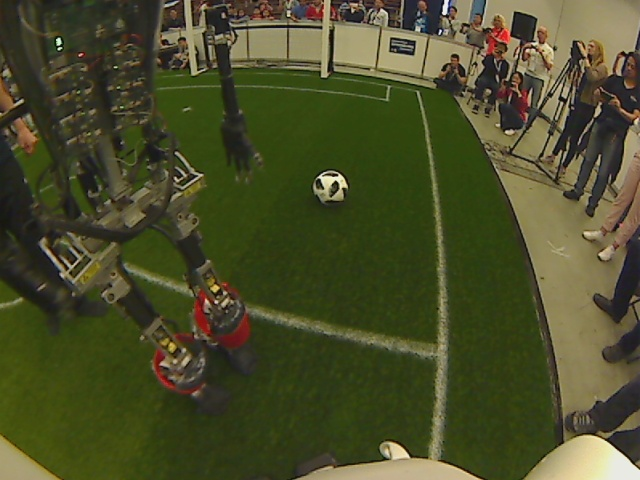ball: (312, 170, 348, 202)
